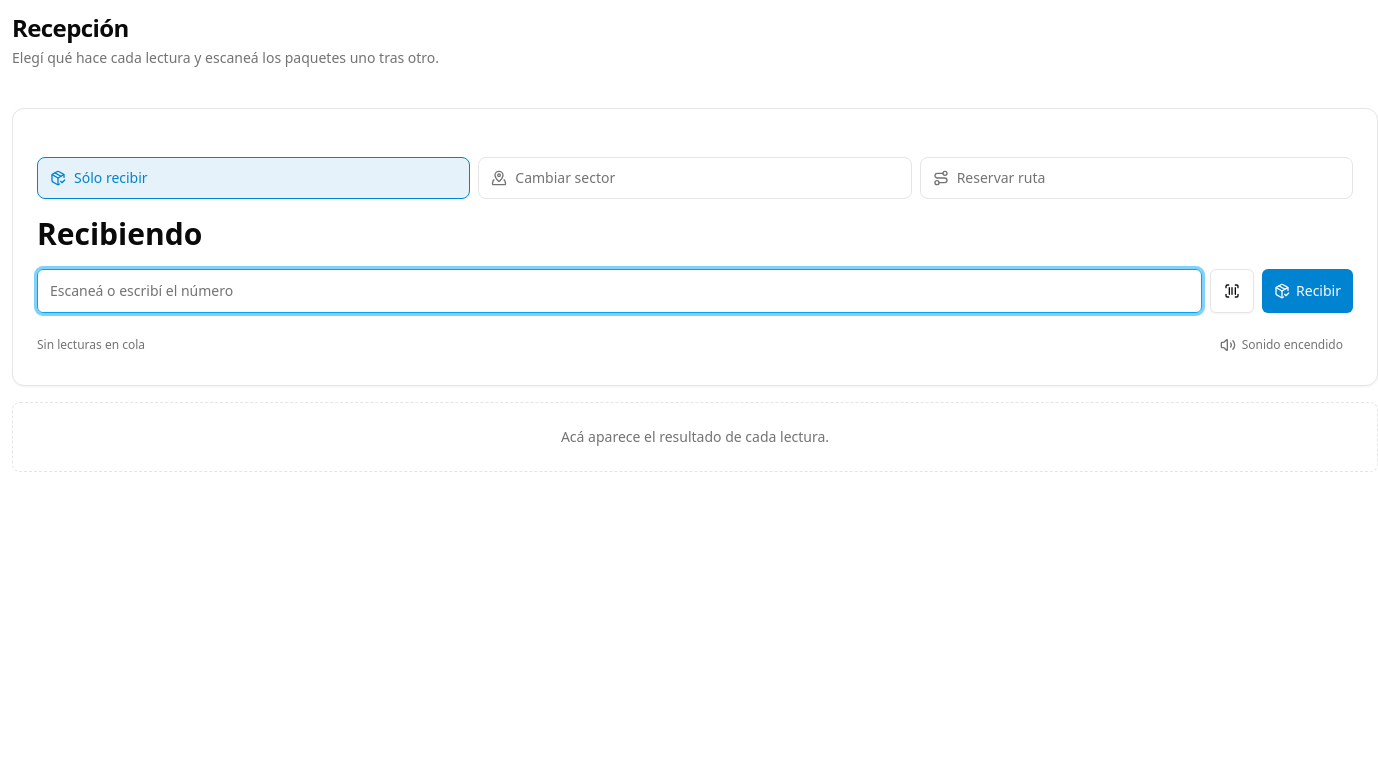
Test: Recepción — los tres modos: una llamada por lectura › Sólo recibir: manda el número tal como se leyó, sin asignación ni búsqueda previa
Type "0000000093" into the field named "Número, remito o código de barras del envío" at (620, 290), box [37, 268, 1202, 312]
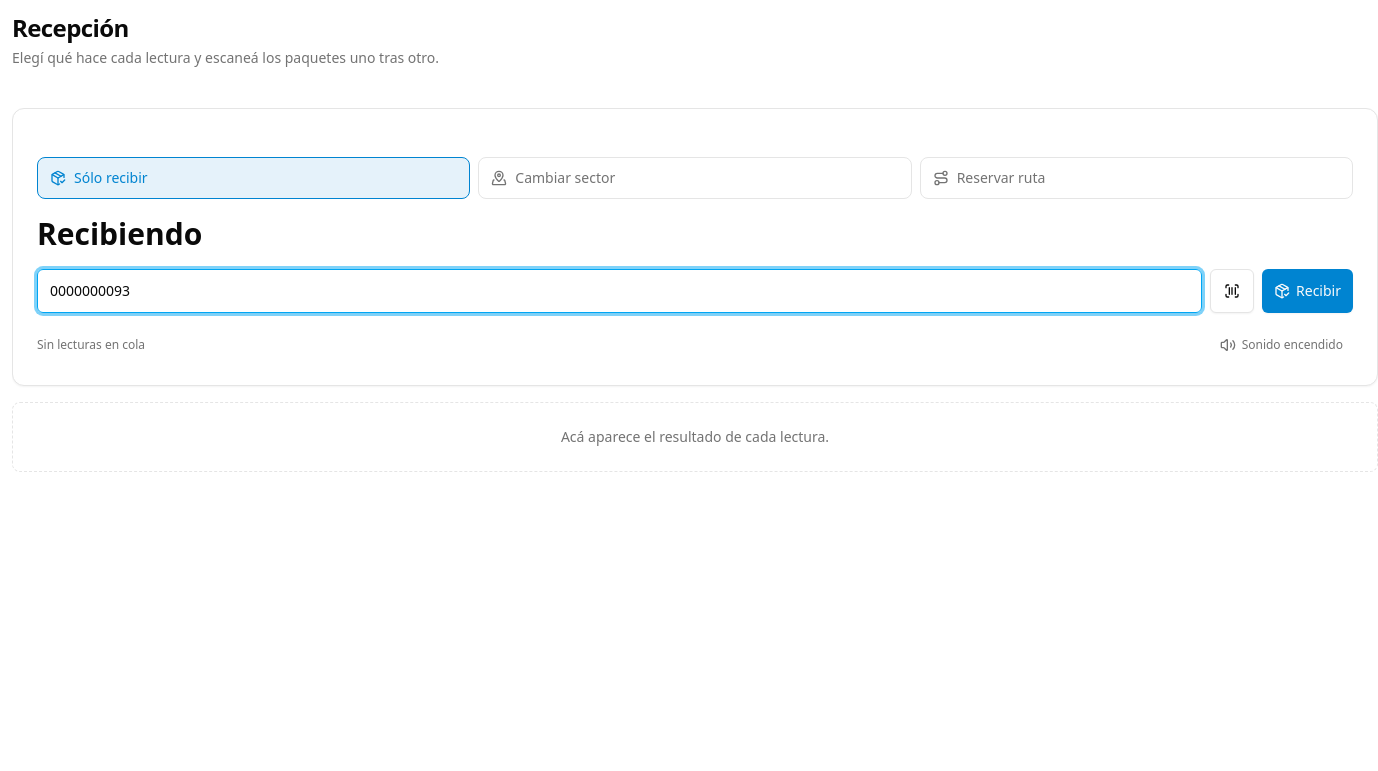
Press Enter in the field named "Número, remito o código de barras del envío", box [37, 268, 1202, 312]
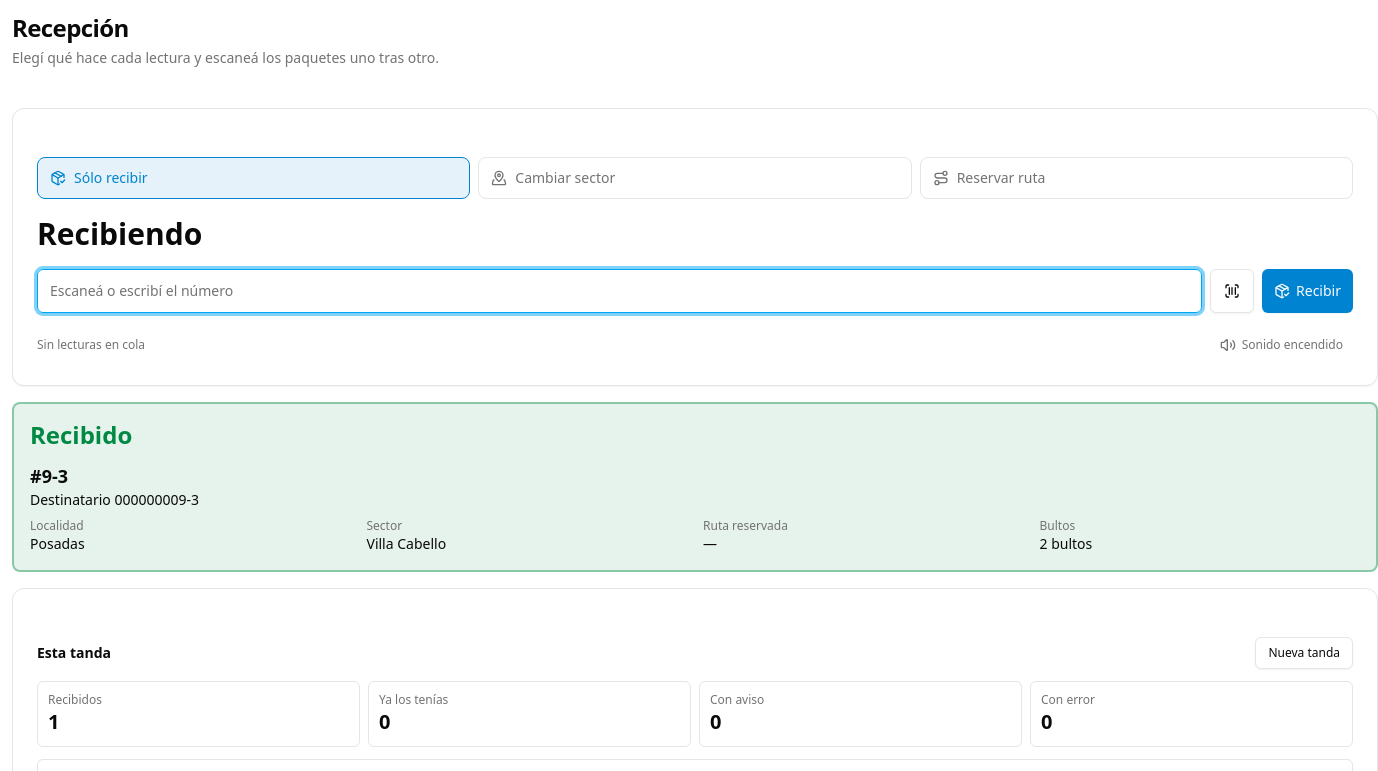
Check: the message shows "Recibido", box [30, 418, 132, 450]
Check: the field named "Número, remito o código de barras del envío" is empty, box [37, 268, 1202, 312]
